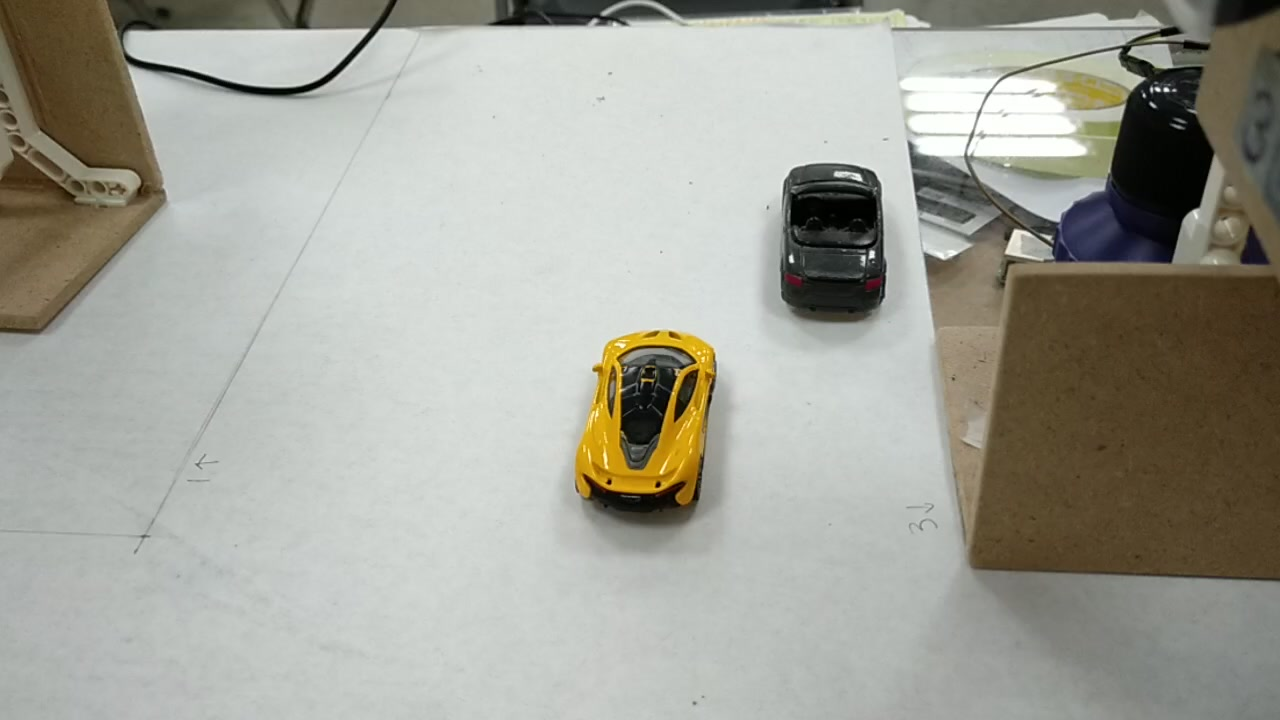car: (578, 338, 711, 494), (781, 170, 884, 297)
